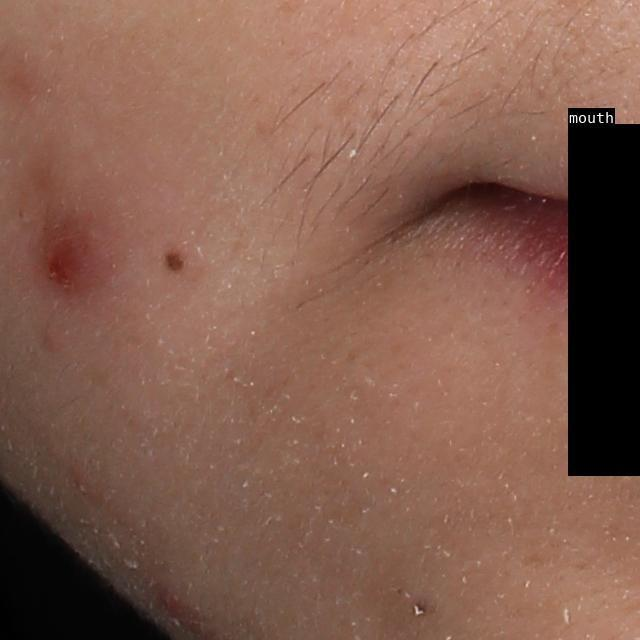nevus: (163, 250, 185, 273)
